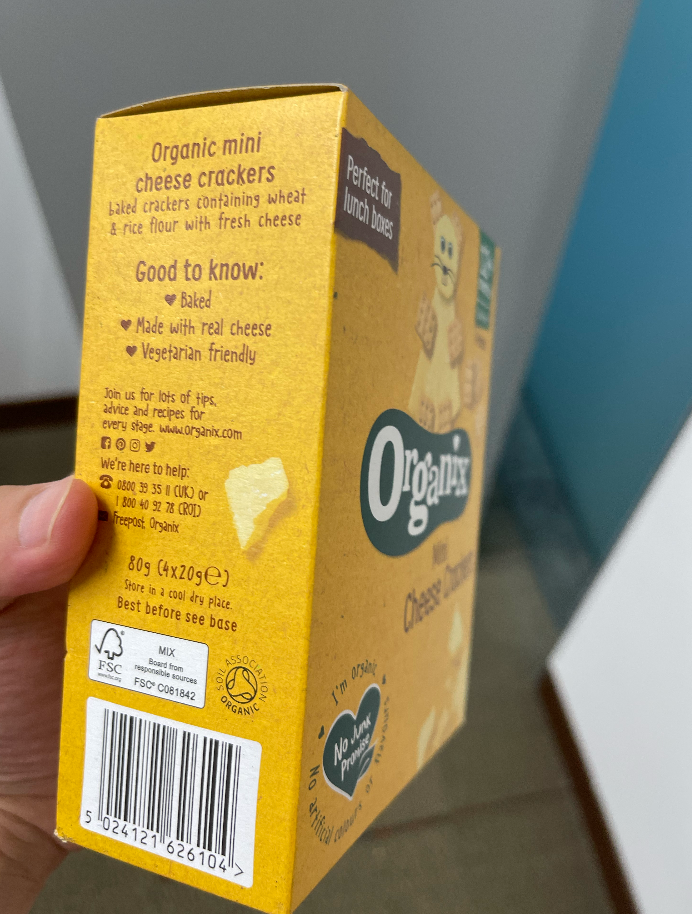crackers_1g-99g: (91, 110, 451, 822)
